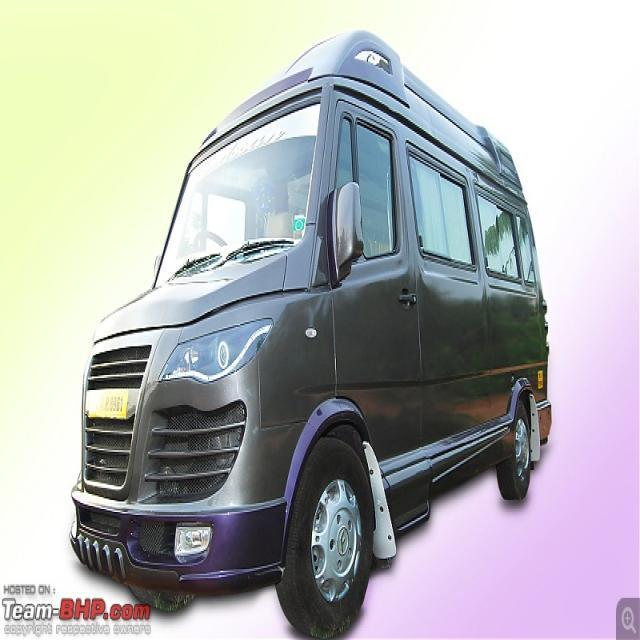Ambulance: (65, 25, 556, 636)
